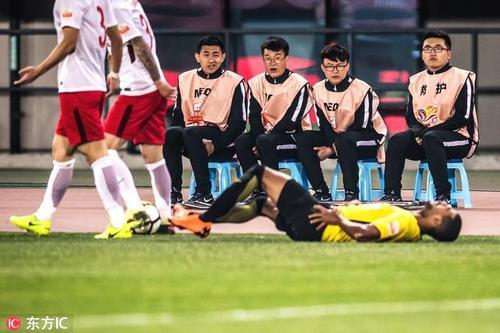bending: (377, 27, 482, 213), (292, 40, 390, 207), (160, 32, 248, 211), (233, 34, 313, 185)
down: (165, 157, 465, 249)
up: (7, 1, 137, 243), (94, 2, 180, 235)
